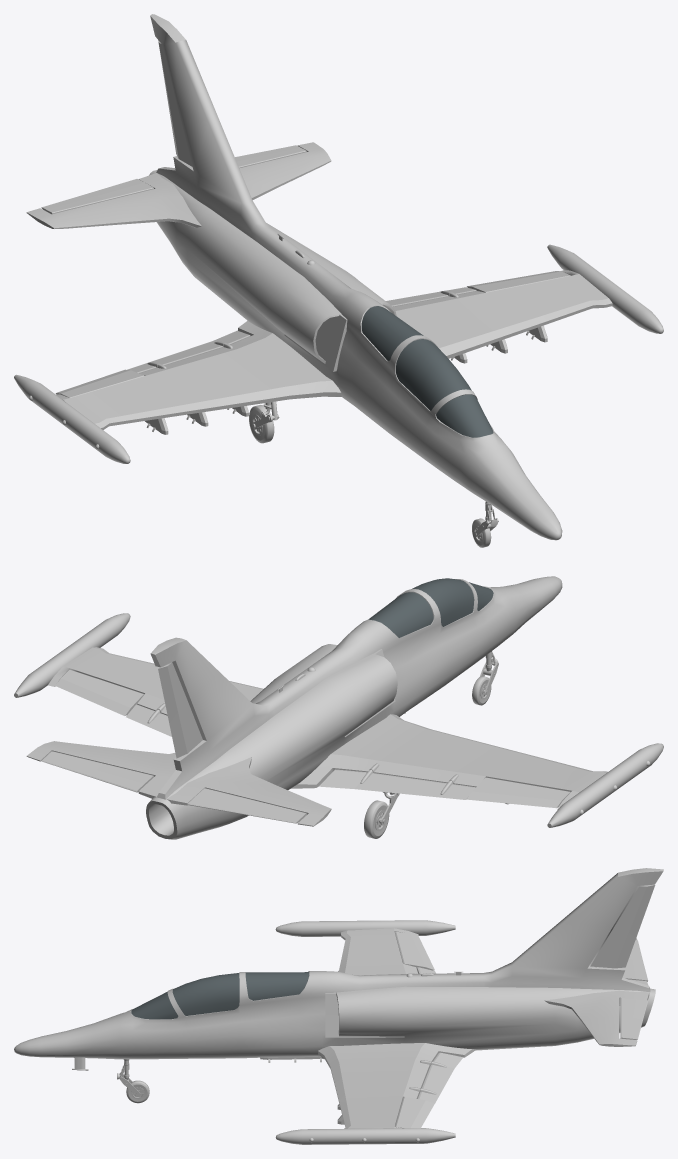
Rendered from Military_Aircraft.fbx.
The picture shows the model from 3 angles, top to bottom: view 1: azimuth 30°, elevation 25°; view 2: azimuth 150°, elevation 25°; view 3: azimuth 270°, elevation 25°; orthographic projection. The views are drawn at different scales.
Parts seen in each view (by area): view 1: airplane_body.002, glass_1.002, missile_1.002, missile_2.002, rudder_1.002; view 2: airplane_body.002, glass_1.002, missile_1.002, missile_2.002, rudder_1.002, rudder_2.002, tyre_3.006, tyre_1.006, wheel_base_1.002; view 3: airplane_body.002, glass_1.002, missile_2.002, missile_1.002, rudder_2.002, rudder_1.002.
Part boxes in pixels (x1=…): airplane_body.002: x1=26, y1=14, x2=612, y2=540; glass_1.002: x1=361, y1=306, x2=493, y2=437; missile_1.002: x1=14, y1=374, x2=130, y2=463; missile_2.002: x1=547, y1=244, x2=663, y2=333; rudder_1.002: x1=41, y1=179, x2=153, y2=214; airplane_body.002: x1=26, y1=576, x2=607, y2=839; glass_1.002: x1=368, y1=578, x2=493, y2=637; missile_1.002: x1=547, y1=743, x2=663, y2=827; missile_2.002: x1=14, y1=613, x2=130, y2=697; rudder_1.002: x1=188, y1=788, x2=306, y2=823; rudder_2.002: x1=41, y1=751, x2=153, y2=792; tyre_3.006: x1=364, y1=800, x2=389, y2=838; tyre_1.006: x1=472, y1=676, x2=491, y2=705; wheel_base_1.002: x1=480, y1=651, x2=498, y2=694; airplane_body.002: x1=14, y1=868, x2=663, y2=1128; glass_1.002: x1=131, y1=972, x2=309, y2=1019; missile_2.002: x1=275, y1=1128, x2=455, y2=1144; missile_1.002: x1=275, y1=920, x2=455, y2=936; rudder_2.002: x1=620, y1=998, x2=647, y2=1039; rudder_1.002: x1=622, y1=940, x2=648, y2=981.
Size of the model in its own units: 726 by 365 by 923.
